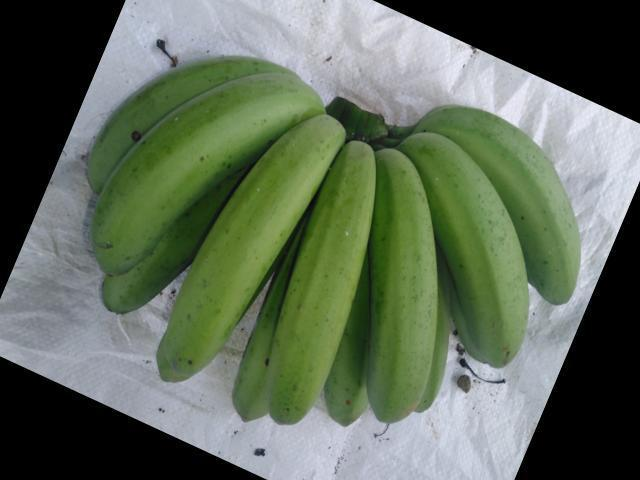unripe: (158, 110, 360, 373), (75, 76, 320, 259), (261, 138, 375, 441), (415, 122, 528, 370), (358, 136, 438, 435)
